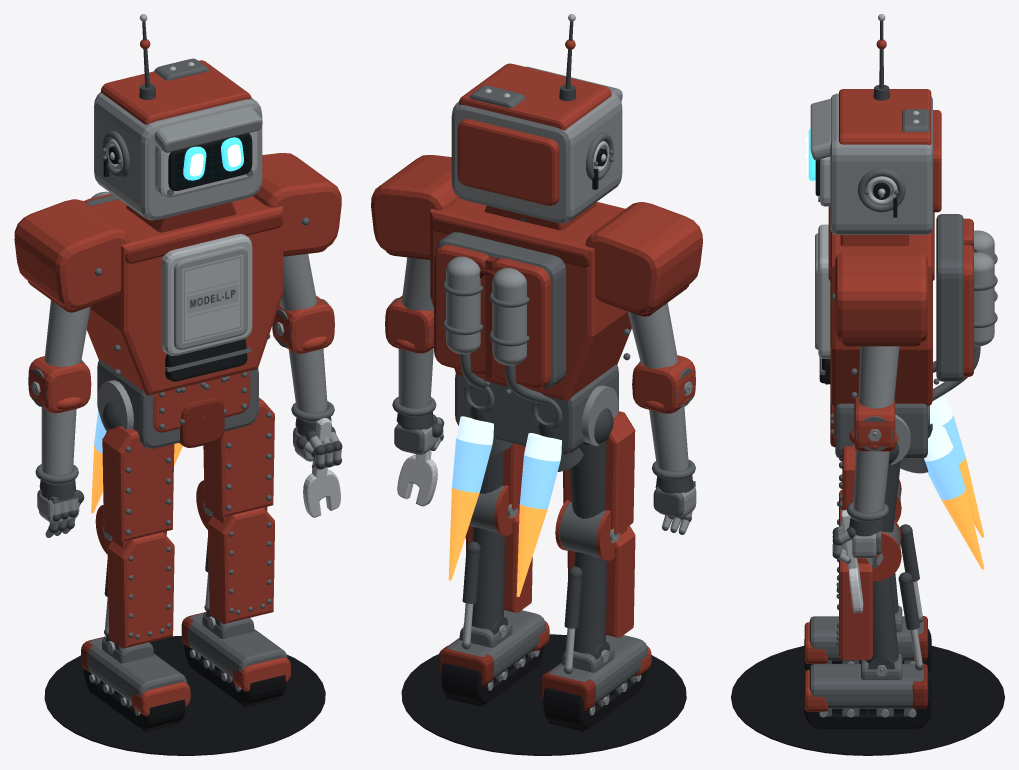
3 renders of one model, left to right at view 1: azimuth 30°, elevation 25°; view 2: azimuth 150°, elevation 25°; view 3: azimuth 270°, elevation 25°, orthographic. The views are drawn at different scales.
Visible parts, largest first — view 1: Torso, Right_Arm, Right_Leg, Base, Head, Left_Leg, Left_Arm, Pelvis, Left_Foot, Right_Foot, ChestPlate, Face (+9 smaller); view 2: Head, Jetpack, Right_Arm, Right_Leg, Base, Torso, Left_Arm, Exhaust, Left_Leg, Left_Foot, Right_Foot, Pelvis (+4 smaller); view 3: Head, Left_Arm, Base, Jetpack, Left_Leg, Left_Foot, Torso, Exhaust, Right_Foot, Pelvis, ChestPlate, Face (+4 smaller).
Part boxes in pixels (x1,y1,x2,y2): Torso: [87, 196, 283, 395]; Right_Arm: [14, 199, 130, 491]; Right_Leg: [95, 403, 174, 648]; Base: [44, 636, 325, 755]; Head: [94, 58, 262, 220]; Left_Leg: [196, 397, 274, 623]; Left_Arm: [253, 153, 341, 429]; Pelvis: [97, 359, 258, 448]; Left_Foot: [181, 609, 290, 707]; Right_Foot: [81, 633, 190, 732]; ChestPlate: [161, 234, 252, 355]; Face: [154, 106, 262, 197]; Head: [451, 63, 622, 223]; Jetpack: [434, 232, 566, 404]; Right_Arm: [585, 202, 702, 490]; Right_Leg: [555, 408, 635, 674]; Base: [401, 634, 686, 755]; Torso: [430, 199, 631, 400]; Left_Arm: [371, 155, 460, 427]; Exhaust: [448, 383, 583, 596]; Left_Leg: [461, 443, 532, 649]; Left_Foot: [438, 610, 549, 706]; Right_Foot: [540, 635, 651, 731]; Pelvis: [455, 364, 618, 454]; Head: [830, 89, 941, 234]; Left_Arm: [831, 252, 927, 531]; Base: [731, 646, 1004, 755]; Jetpack: [933, 214, 997, 400]; Left_Leg: [836, 443, 923, 670]; Left_Foot: [804, 653, 931, 728]; Torso: [819, 206, 934, 406]; Exhaust: [899, 395, 984, 569]; Right_Foot: [804, 605, 931, 672]; Pelvis: [825, 378, 939, 465]; ChestPlate: [815, 224, 830, 358]; Face: [810, 99, 831, 206].
Size of the model in its own units: 0.9723 by 2.15 by 0.8.
Materials: 17 (2 with a texture image).
